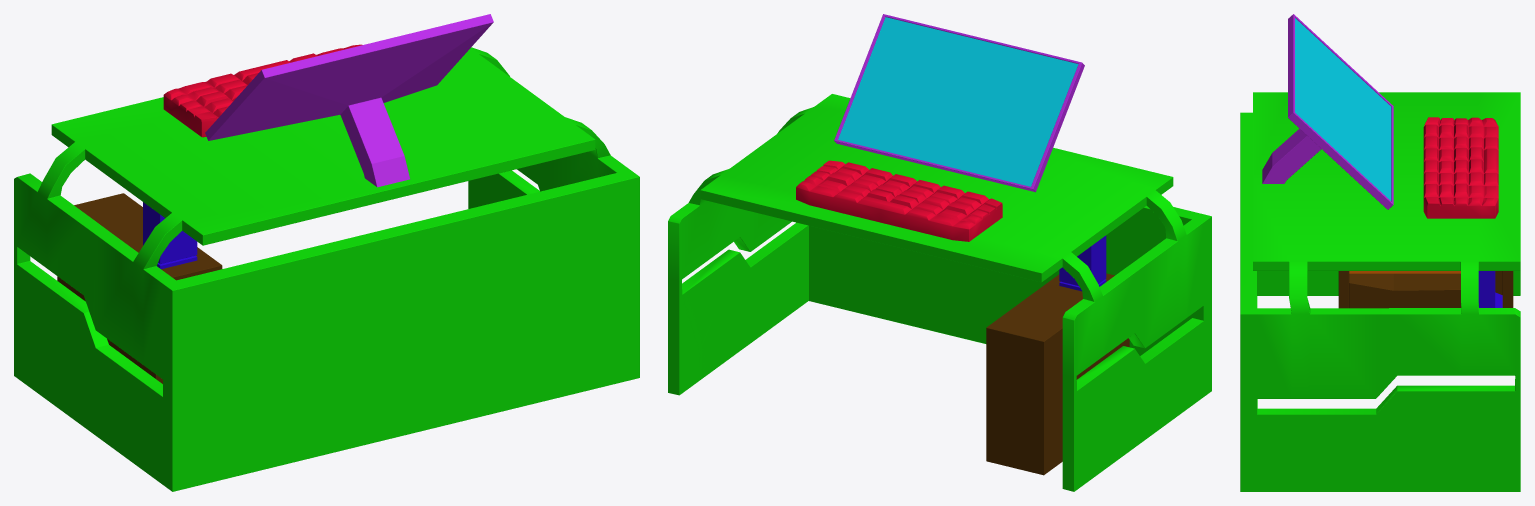
The model's file is CloneTable.fbx.
3 views of the same model, side by side, from view 1: azimuth 30°, elevation 25°; view 2: azimuth 150°, elevation 25°; view 3: azimuth 270°, elevation 25° (orthographic). The views are drawn at different scales.
Visible parts, largest first — view 1: CloneTable; view 2: CloneTable; view 3: CloneTable.
Boxes of the visible parts, x1,y1,x2,y2 form: CloneTable: (14, 14, 639, 491); CloneTable: (668, 14, 1211, 491); CloneTable: (1240, 14, 1520, 491).
Bounding box in the file's own units: 428 × 324 × 251.
